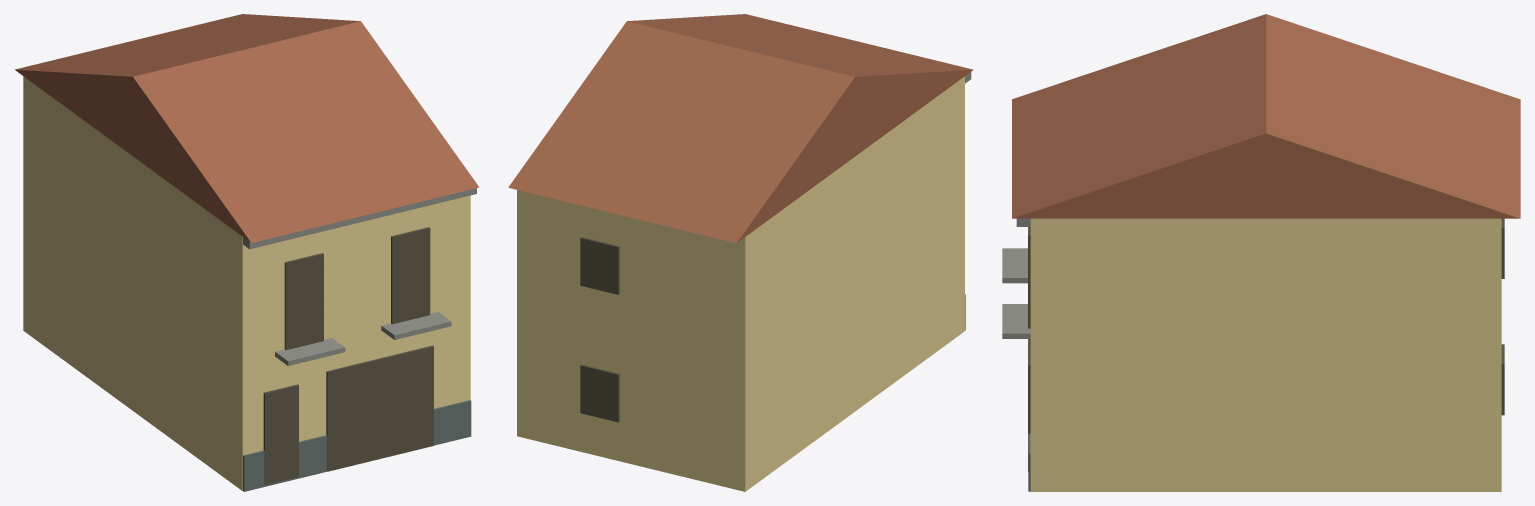
Rendered from SM_casa_pueblo_v3_LOD1.fbx.
The picture shows the model from 3 angles, left to right: view 1: azimuth 30°, elevation 25°; view 2: azimuth 150°, elevation 25°; view 3: azimuth 270°, elevation 25°; orthographic projection. The views are drawn at different scales.
Parts seen in each view (by area): view 1: SM_casa_pueblo_v3_LOD1; view 2: SM_casa_pueblo_v3_LOD1; view 3: SM_casa_pueblo_v3_LOD1.
Part boxes in pixels (bbox=[...]): SM_casa_pueblo_v3_LOD1: bbox=[15, 14, 479, 491]; SM_casa_pueblo_v3_LOD1: bbox=[508, 14, 973, 491]; SM_casa_pueblo_v3_LOD1: bbox=[1002, 14, 1520, 491].
Bounding box in the file's own units: 6 × 8.4 × 11.
